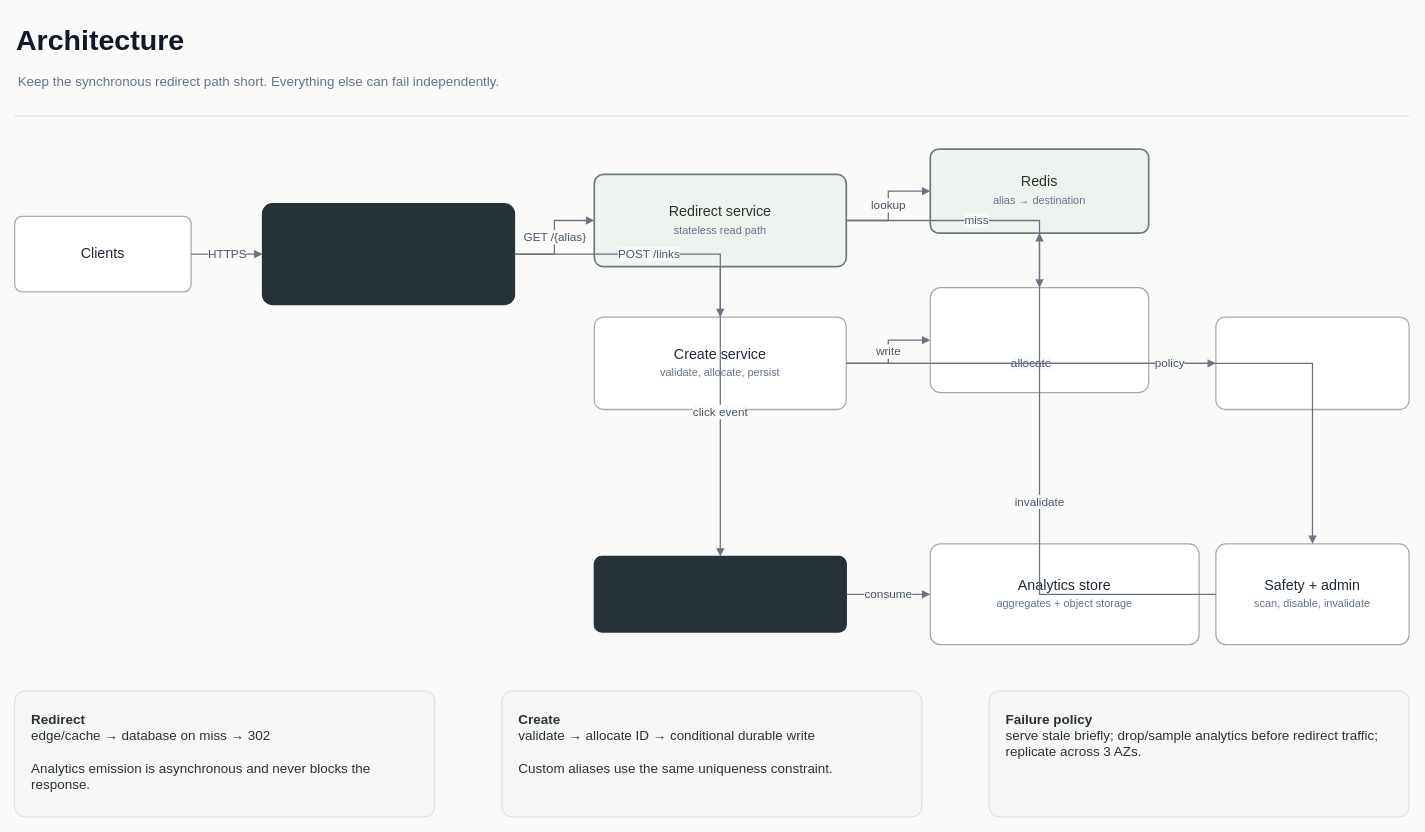
This 1425x832 diagram has some shape labels left out. Here are the shapes that lost their labels. From the top down, the box of each, then its label:
(261, 203, 515, 305): DNS · CDN · WAF TLS, hot redirects, rate limits
(929, 287, 1149, 393): Link store partition key: alias multi-AZ replicas
(1215, 316, 1409, 410): ID generator Snowflake/range → Base62
(593, 555, 847, 632): Event stream
